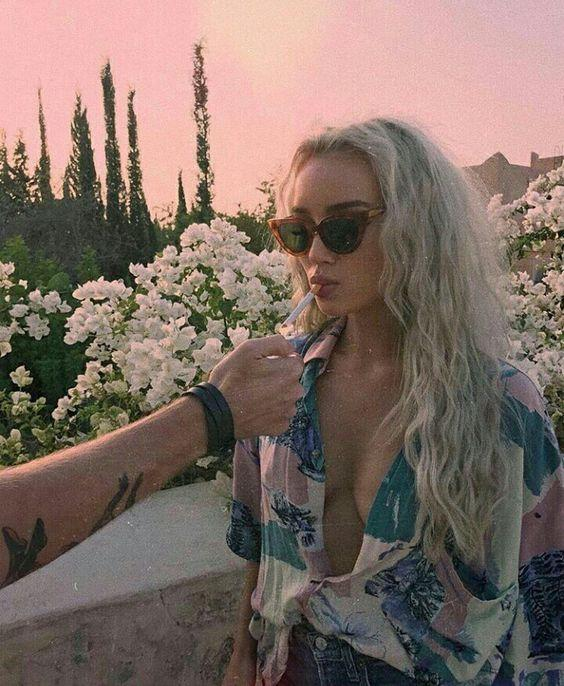cigarette: (282, 284, 324, 328)
